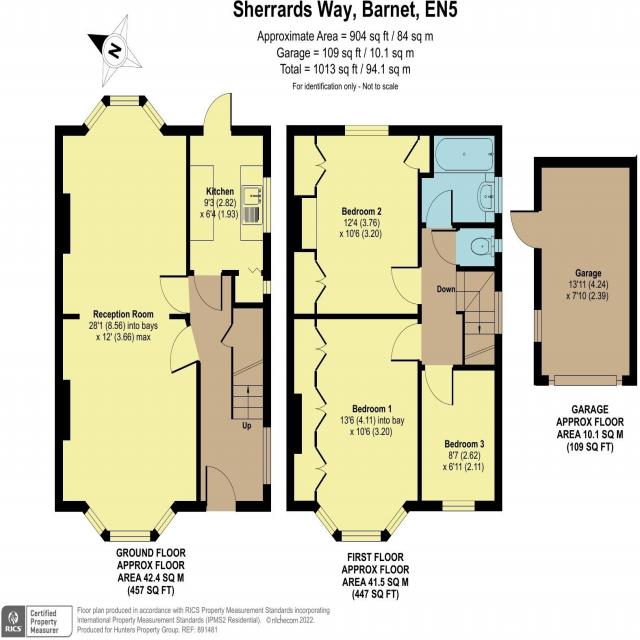DOOR: (167, 320, 201, 378), (205, 464, 239, 513), (191, 270, 225, 315), (201, 90, 234, 136), (423, 364, 456, 409), (389, 321, 423, 364), (388, 265, 422, 308), (158, 271, 190, 315), (424, 185, 456, 227), (428, 228, 459, 267)
ROOM: (55, 95, 201, 542), (287, 313, 421, 541), (287, 123, 434, 318), (186, 87, 271, 318), (417, 362, 503, 513)
WINDOW: (384, 504, 409, 539), (343, 120, 391, 138), (313, 505, 339, 538), (261, 174, 274, 237), (82, 506, 107, 538), (153, 505, 177, 538), (83, 99, 107, 132), (142, 98, 166, 131), (261, 422, 272, 488), (492, 286, 505, 338), (109, 528, 152, 543), (341, 528, 383, 543), (441, 497, 477, 514), (492, 174, 505, 217), (109, 94, 140, 107), (492, 234, 505, 256), (262, 278, 272, 295)
